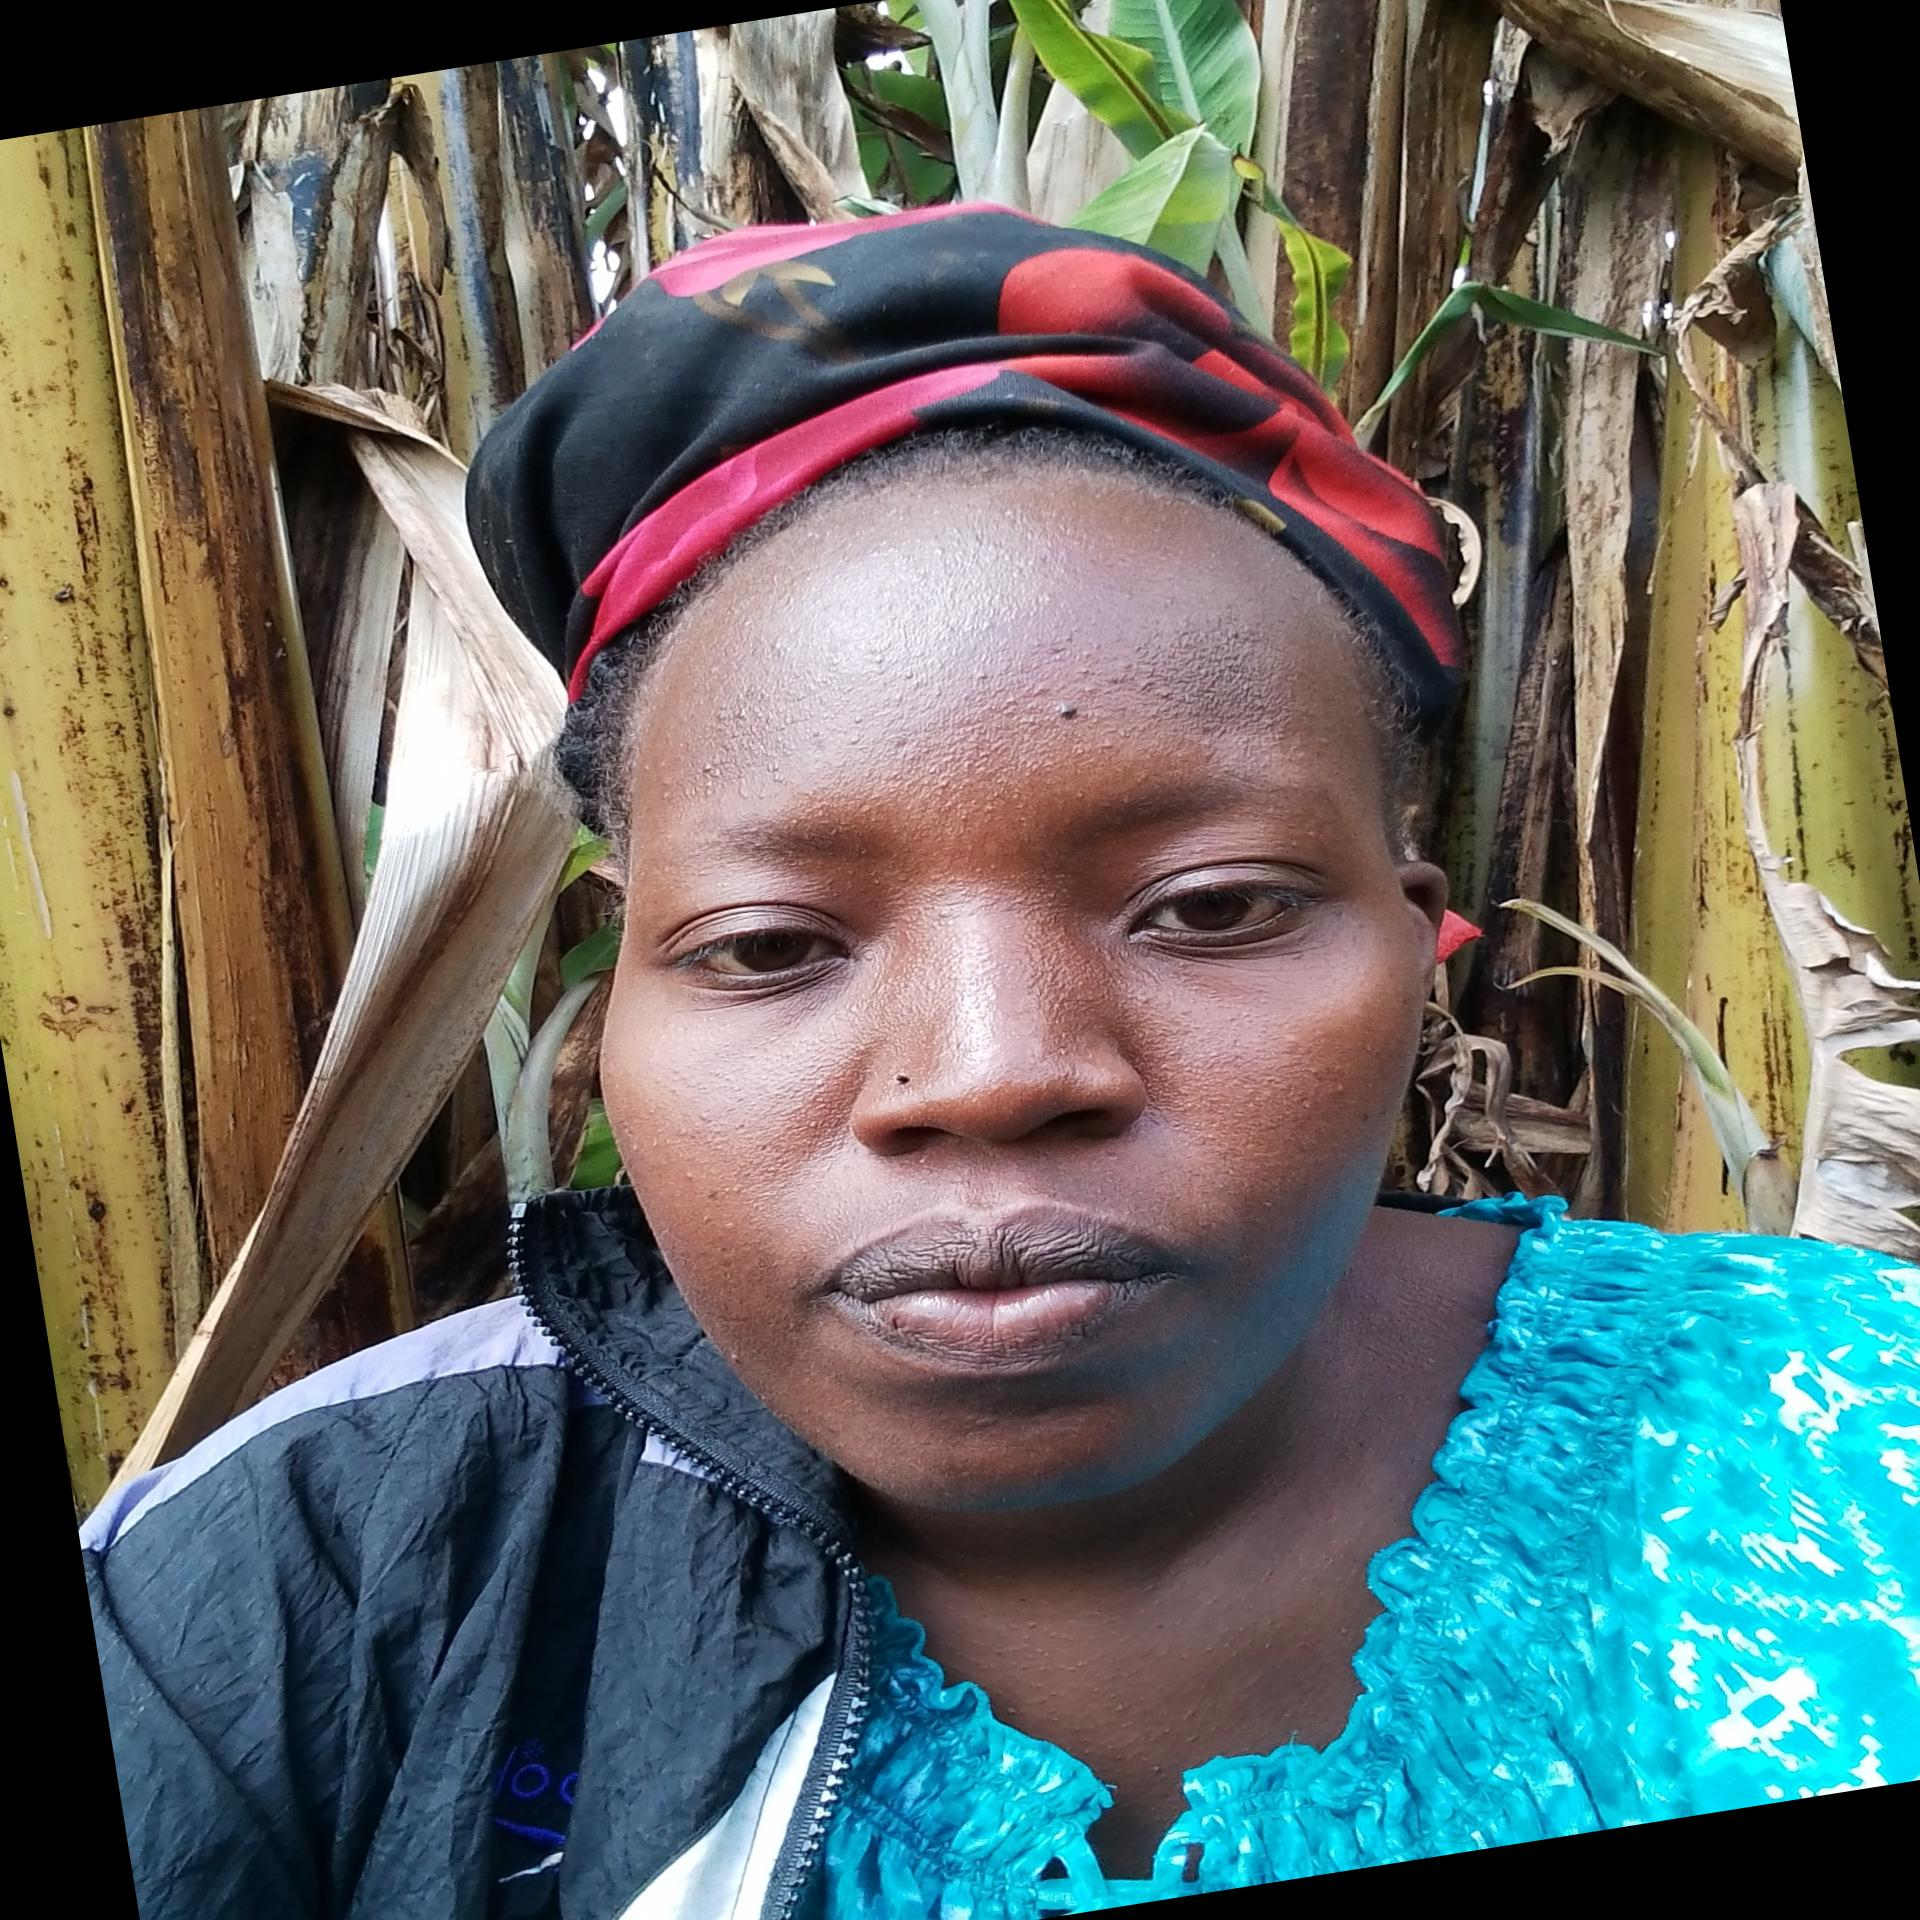Dry Skin: (1118, 608, 1294, 758), (686, 696, 795, 798)
